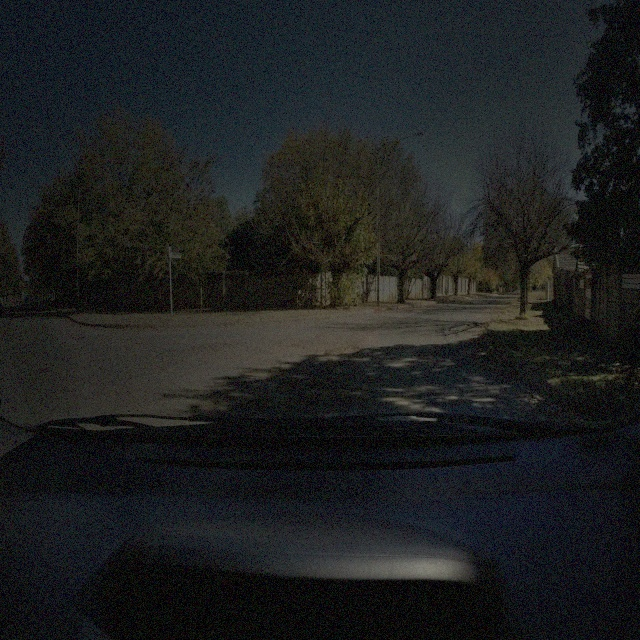pothole: (325, 342, 361, 356)
